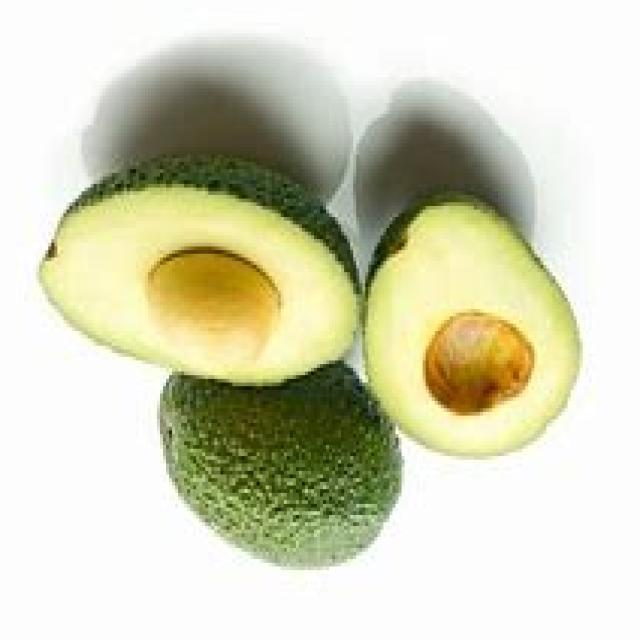avocado: (41, 152, 368, 388), (364, 193, 582, 461), (154, 353, 420, 571)
